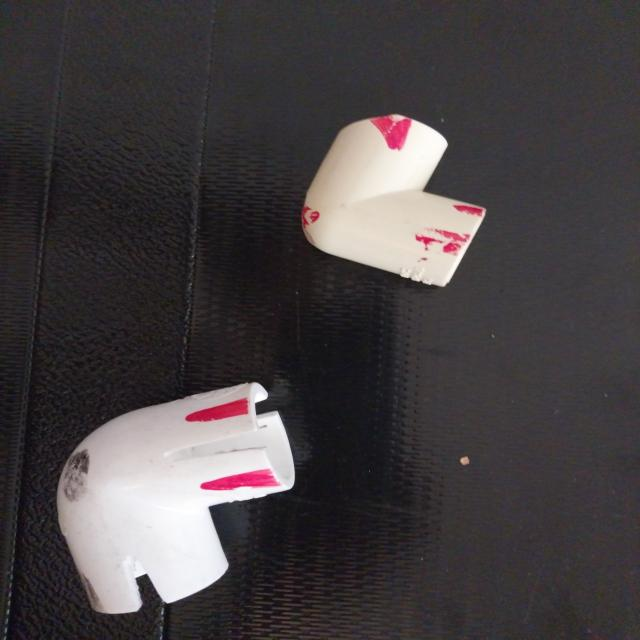Defective: (111, 537, 192, 616), (398, 225, 487, 262), (190, 469, 292, 498), (51, 454, 110, 501), (190, 433, 272, 466), (358, 112, 415, 150), (291, 206, 323, 228), (452, 201, 485, 217)
L Joint: (55, 383, 295, 618), (300, 117, 486, 289)
